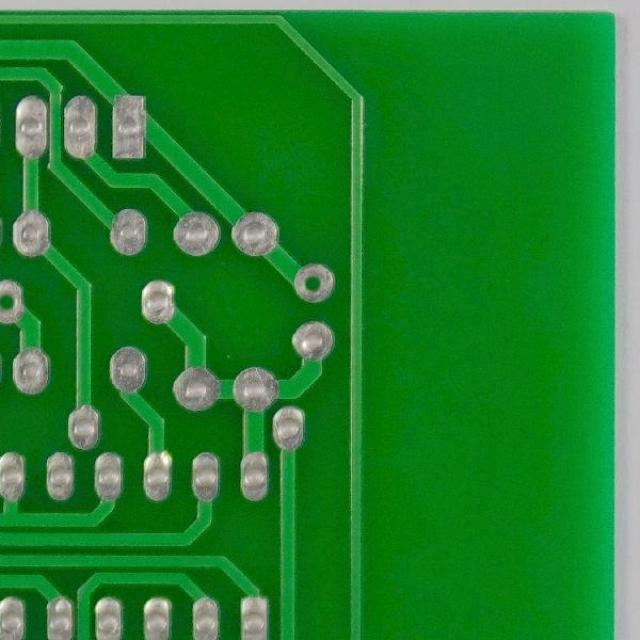Missing_Hole: (290, 261, 338, 305), (0, 276, 27, 328)
